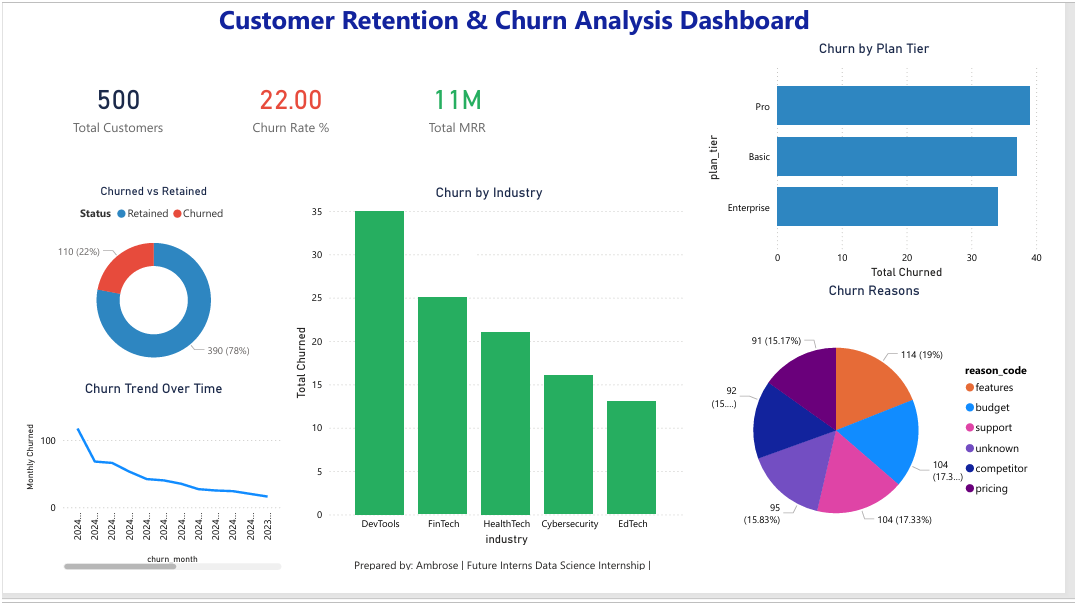

This screenshot's page, from the dashboard's own definition file:
{"tool":"powerbi","page":{"name":"Page 1","canvas":[1280,720],"ordinal":0},"visuals":[{"type":"textbox","box":[241,0,750.9,54.4],"z":0},{"type":"card","fields":{"Values":["Accounts.Total Customers"]},"box":[33.8,54.4,171.9,163.1],"z":1000},{"type":"card","fields":{"Values":["Accounts.Churn Rate %"]},"box":[249.8,54.4,171.9,163.1],"z":2000},{"type":"card","fields":{"Values":["Accounts.Total MRR"]},"box":[458.4,54.4,171.9,163.1],"z":3000},{"type":"donutChart","title":"Churned vs Retained","fields":{"Category":["Accounts.churn_label"],"Y":["Accounts.Total Customers"]},"box":[0,233.6,329.1,243.9],"z":4000},{"type":"clusteredBarChart","title":"Churn by Plan Tier","fields":{"Category":["Accounts.plan_tier"],"Y":["Accounts.Total Churned"]},"box":[850.8,54.4,429.1,301.2],"z":5000},{"type":"lineChart","title":"Churn Trend Over Time","fields":{"Y":["Churn events.Monthly Churned"],"Category":["Churn events.churn_month"]},"box":[0,477.6,329.1,242.4],"z":6000},{"type":"clusteredColumnChart","title":"Churn by Industry","fields":{"Category":["Accounts.industry"],"Y":["Accounts.Total Churned"]},"box":[336.5,233.6,495.2,455.5],"z":7000},{"type":"pieChart","title":"Churn Reasons","fields":{"Category":["Churn events.reason_code"],"Y":["Churn events.Monthly Churned"]},"box":[850.8,355.6,429.1,351.2],"z":8000},{"type":"textbox","box":[396.7,695,454,25],"z":8001}]}

Visuals, with their boxes in screenshot pixels (x1, y1, x2, y2), scaled from the page's 1280x720 canvas onto the 1077x605 screenshot:
textbox: pyautogui.locateOnScreen(203, 0, 835, 46)
card - Accounts.Total Customers: pyautogui.locateOnScreen(28, 46, 173, 183)
card - Accounts.Churn Rate %: pyautogui.locateOnScreen(210, 46, 355, 183)
card - Accounts.Total MRR: pyautogui.locateOnScreen(386, 46, 530, 183)
"Churned vs Retained" donutChart: pyautogui.locateOnScreen(0, 196, 277, 401)
"Churn by Plan Tier" clusteredBarChart: pyautogui.locateOnScreen(716, 46, 1076, 299)
"Churn Trend Over Time" lineChart: pyautogui.locateOnScreen(0, 401, 277, 604)
"Churn by Industry" clusteredColumnChart: pyautogui.locateOnScreen(283, 196, 700, 579)
"Churn Reasons" pieChart: pyautogui.locateOnScreen(716, 299, 1076, 594)
textbox: pyautogui.locateOnScreen(334, 584, 716, 604)
